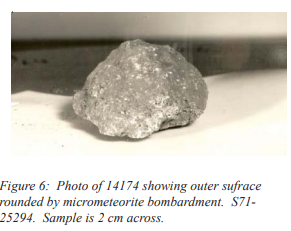Breccia: (73, 20, 215, 143)
